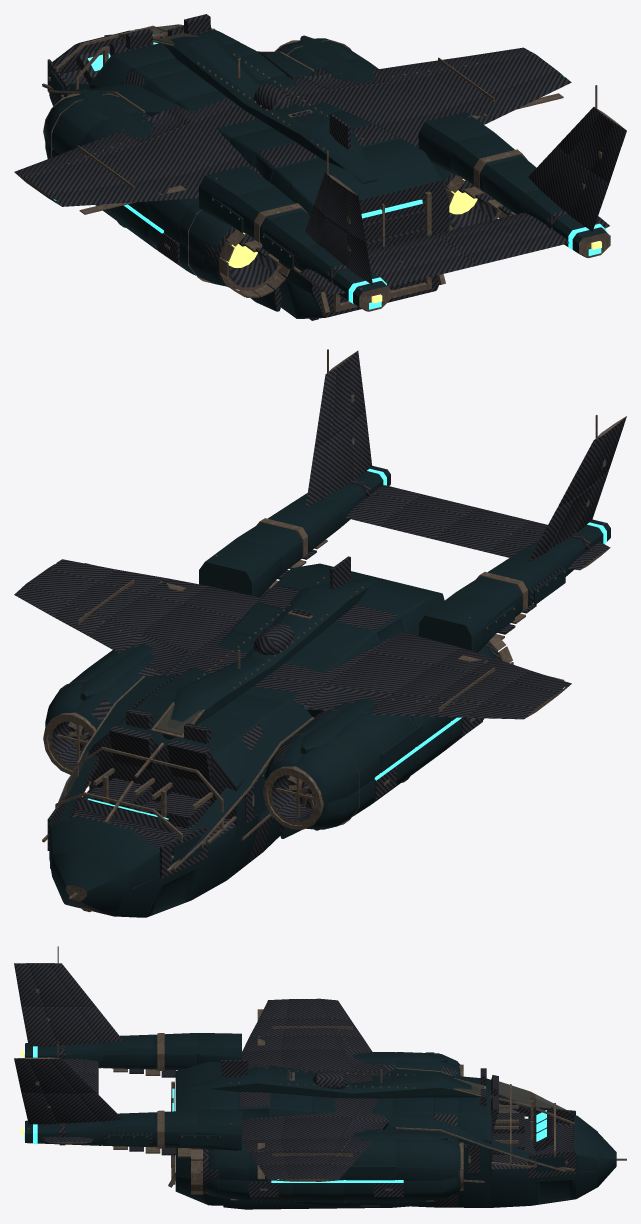
3 renders of one model, top to bottom at view 1: azimuth 30°, elevation 25°; view 2: azimuth 150°, elevation 25°; view 3: azimuth 270°, elevation 25°, orthographic. The views are drawn at different scales.
Parts seen in each view (by area): view 1: kb7_core, kb7_tail_r, kb7_wing_r, kb7_wing_l, kb7_tail_l; view 2: kb7_core, kb7_tail_r, kb7_wing_r, kb7_wing_l, kb7_tail_l; view 3: kb7_core, kb7_tail_l, kb7_tail_r, kb7_wing_l, kb7_wing_r.
Part boxes in pixels (x1,y1,x2,y2): kb7_core: (42,14,610,320); kb7_tail_r: (434,85,626,265); kb7_wing_r: (372,47,571,124); kb7_wing_l: (14,131,198,214); kb7_tail_l: (299,150,476,294); kb7_core: (42,466,610,917); kb7_tail_r: (305,349,476,539); kb7_wing_r: (14,559,207,652); kb7_wing_l: (371,648,571,719); kb7_tail_l: (435,415,626,570); kb7_core: (20,1033,626,1209); kb7_tail_l: (14,946,122,1092); kb7_tail_r: (14,1041,122,1143); kb7_wing_l: (242,998,372,1052); kb7_wing_r: (242,1138,372,1181).
Bounding box in the file's own units: 5.8 × 2.95 × 8.34.
16 materials, 10 textured.
